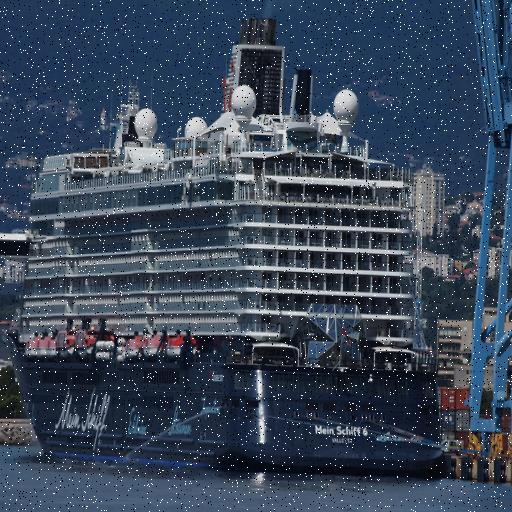cruises: (11, 34, 446, 478)
